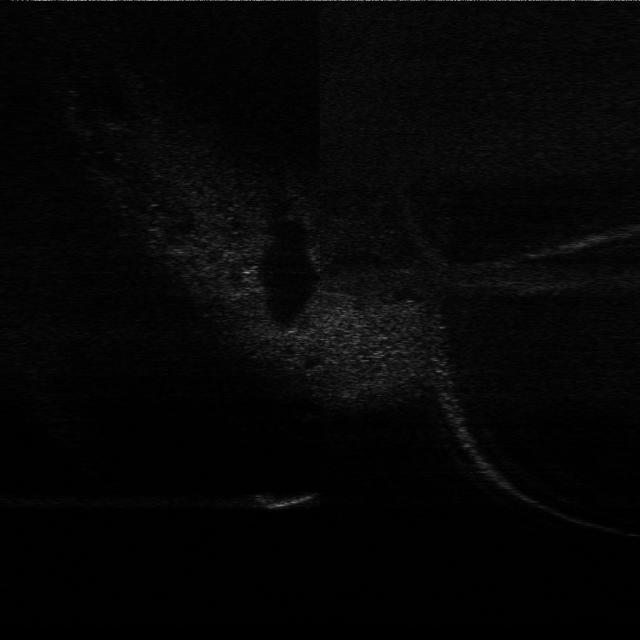square cage: (250, 476, 322, 514)
